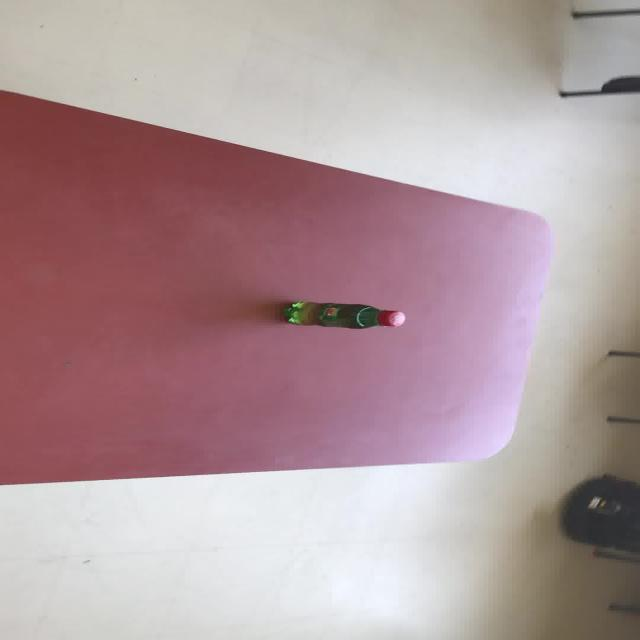guarana: (281, 300, 405, 329)
